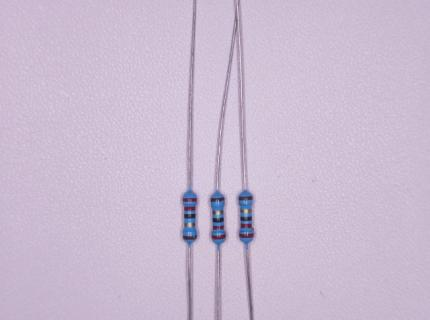Black band: (213, 217, 224, 223), (184, 214, 196, 219), (240, 216, 252, 221)
Brown band: (183, 235, 196, 240), (211, 197, 224, 202), (238, 196, 253, 200)
Gold band: (184, 222, 195, 227), (213, 210, 223, 215), (240, 209, 251, 213)
Red band: (212, 234, 225, 240), (239, 233, 254, 238), (183, 198, 197, 202), (213, 225, 224, 230), (241, 223, 252, 228), (184, 207, 195, 211)
